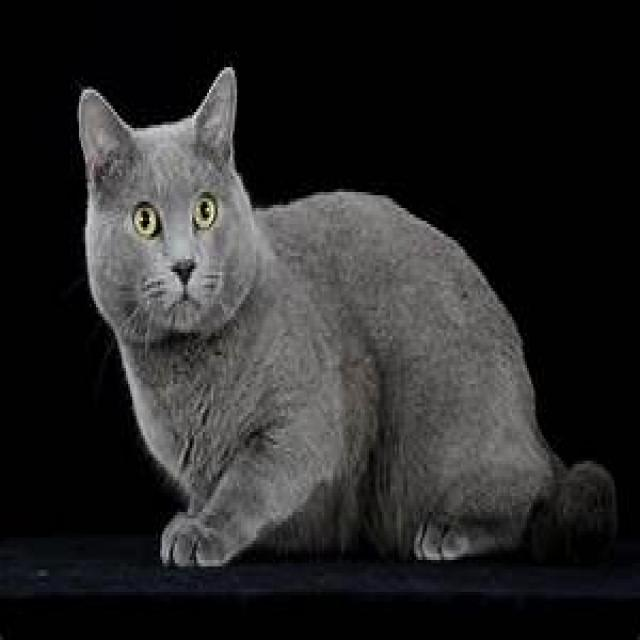cat: (74, 61, 624, 572)
